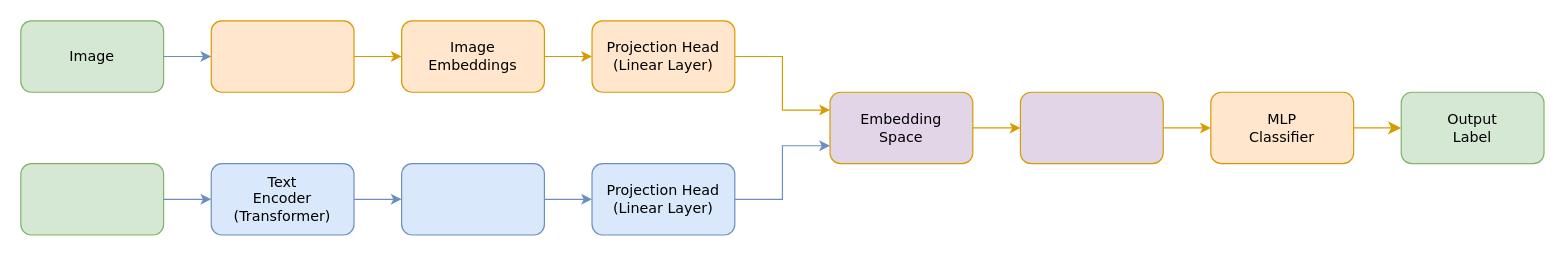
Some shapes in this 1565 by 256 pixel diagram are drawn without their labels. Here are the shapes that lost their labels. From the top down, the centre of each, then its label:
the point at 282,56: Vision Encoder (ViT)
the point at 1091,127: Cosine Similarity & Contrastive Loss
the point at 92,198: Text Prompts
the point at 472,198: Text Embeddings
